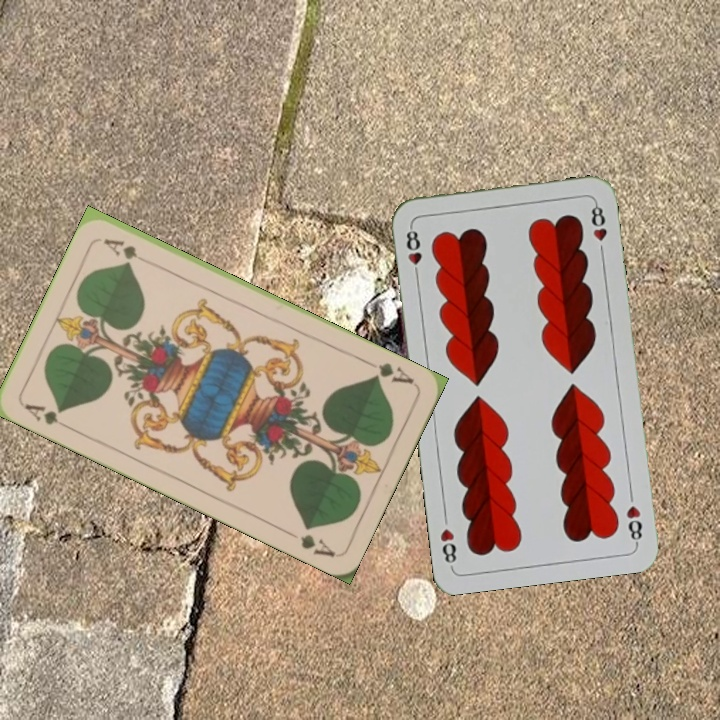GA: (20, 399, 74, 433), (361, 356, 417, 387)
H8: (402, 222, 425, 281), (622, 501, 645, 546)
